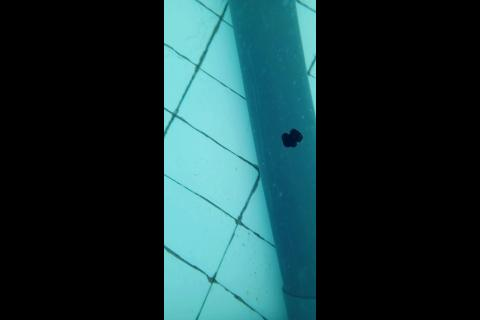kebocoran: (280, 127, 304, 149)
